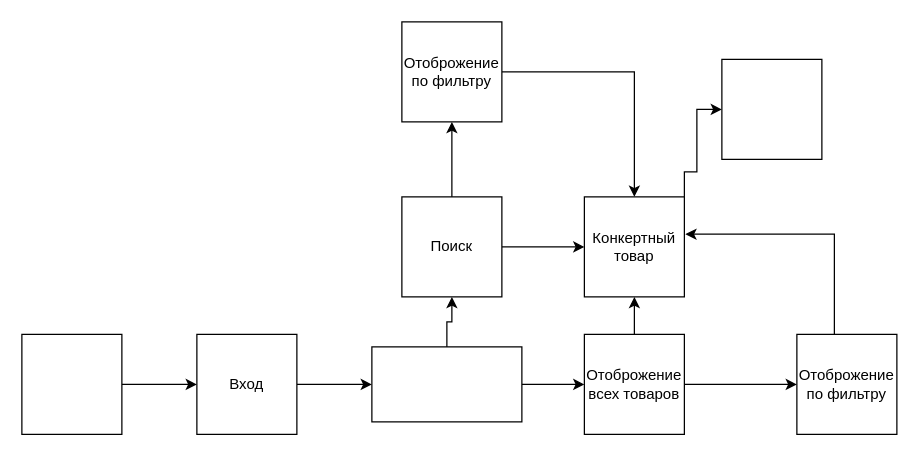
Image size: 919x456. Some labels were removed from this diagram. Here are the shapes that lost their labels. From the top down, the centre of each, then its label:
point 771,108: Комментарии
point 71,383: Регистрация
point 446,384: Главная страница
